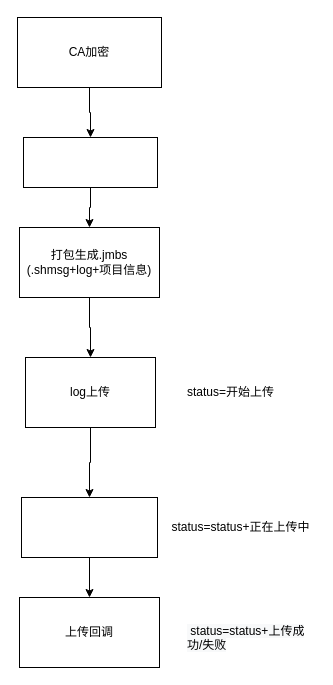
The diagram is 333 pixels wide and 685 high, and some of its shapes have lost their labels. Here are the shapes that lost their labels. From the top down, the centre of each, then its label:
At pixel 90 162: "CA预解密".
At pixel 89 527: "jmbs上传".
